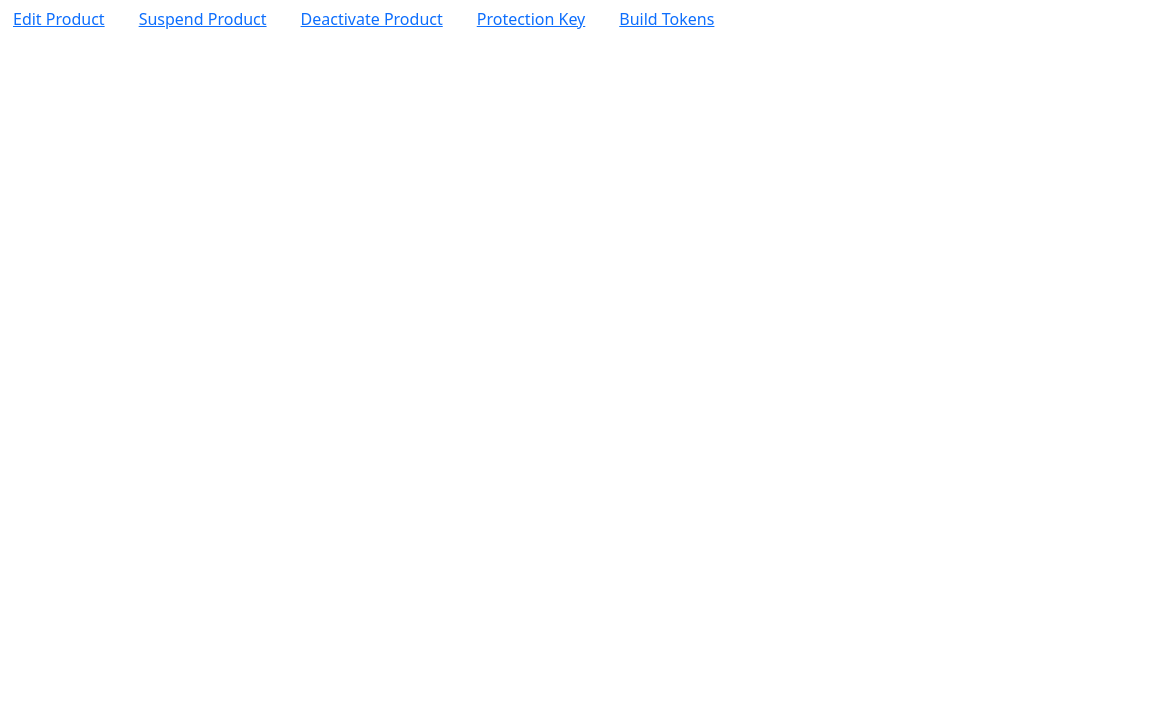
ProductRowActions › loads and displays protection signing key metadata
Click the button "Protection Key" at [531, 19], box left=464, top=0, right=598, bottom=38
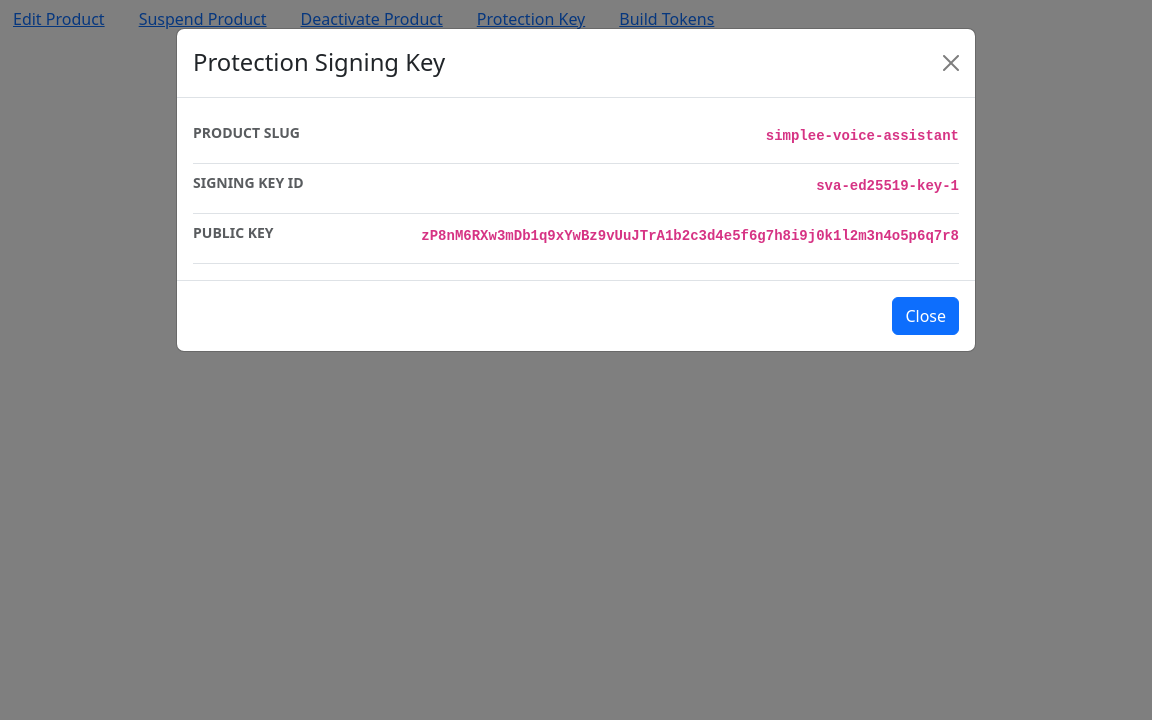
Now the text "sva-ed25519-key-1" is shown, box left=816, top=178, right=959, bottom=194
Now the text "simplee-voice-assistant" is shown, box left=766, top=128, right=959, bottom=144
